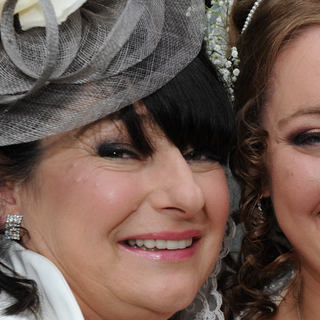eye: (92, 139, 144, 165), (290, 126, 320, 150)
